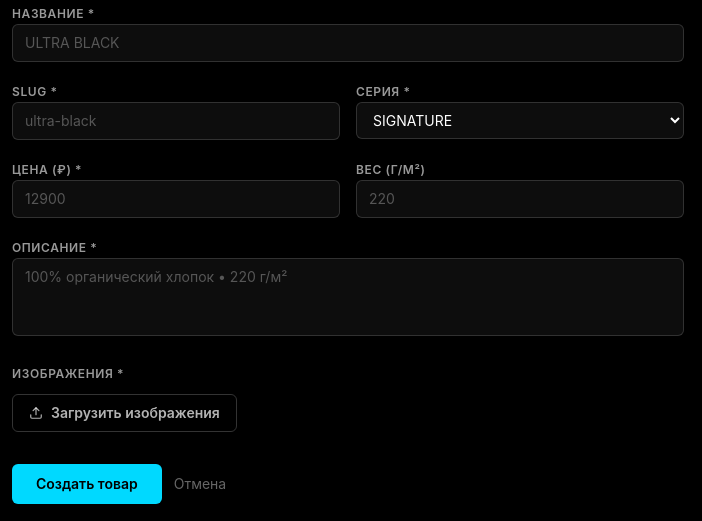
Test: ProductForm — slug generation › auto-generates slug from name in create mode
The image size is (702, 521).
Type "VOID ULTRA BLACK" into the field with placeholder "ULTRA BLACK". click: {"x": 348, "y": 43}
box: [12,24,684,62]
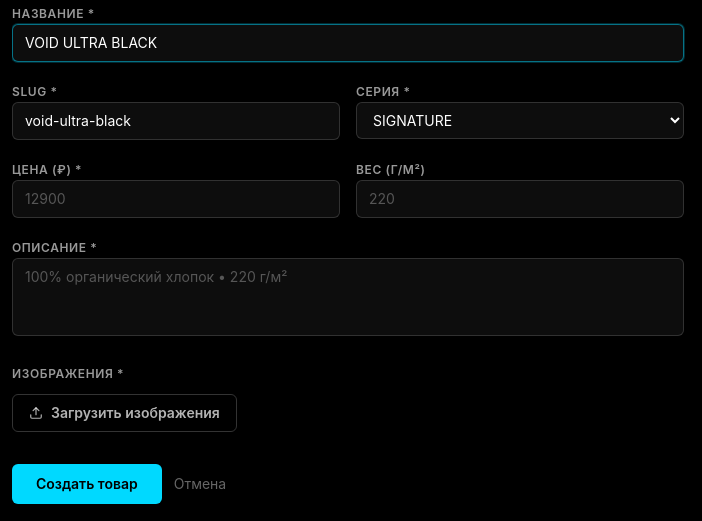
Expected: the field with placeholder "ultra-black" below "Slug *" holds "void-ultra-black", [12,102,340,140]
